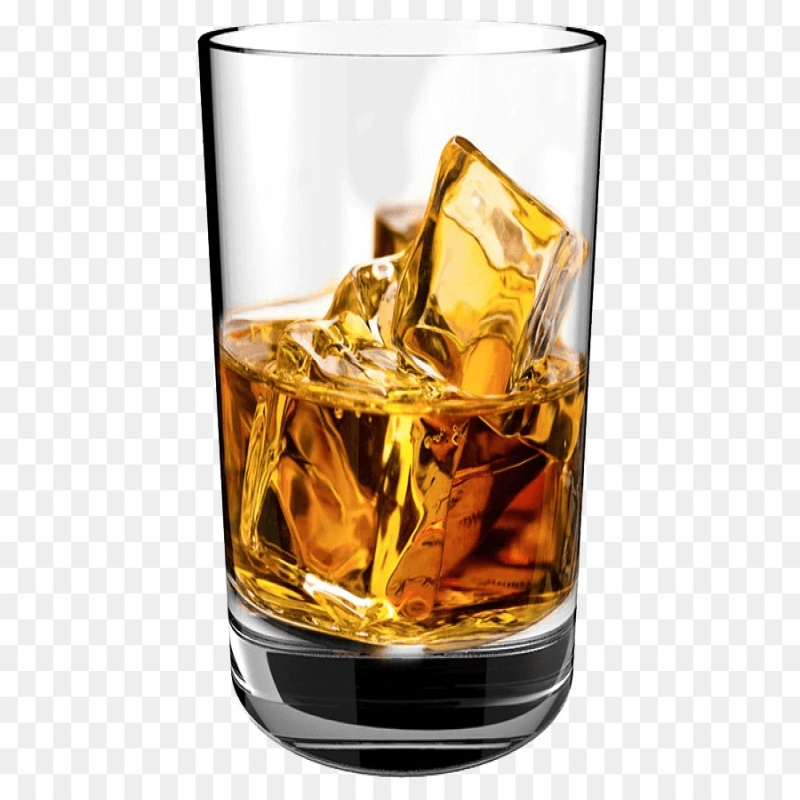whiskey: (206, 26, 620, 757)
